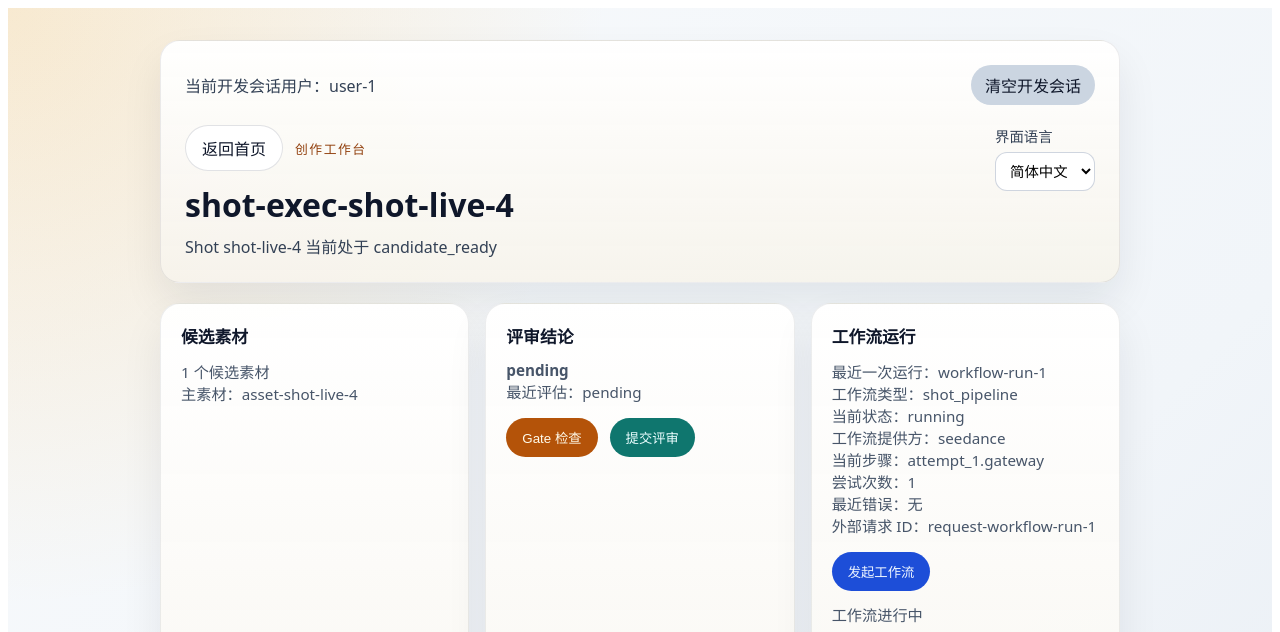
Test: App › switches locale, persists it, and renders english shot feedback
Expected: the heading "shot-exec-shot-live-4" is shown, [185, 183, 514, 226]
Select "English" in the dropdown with test id "ui-locale-select" at (1045, 172), box [995, 152, 1095, 191]
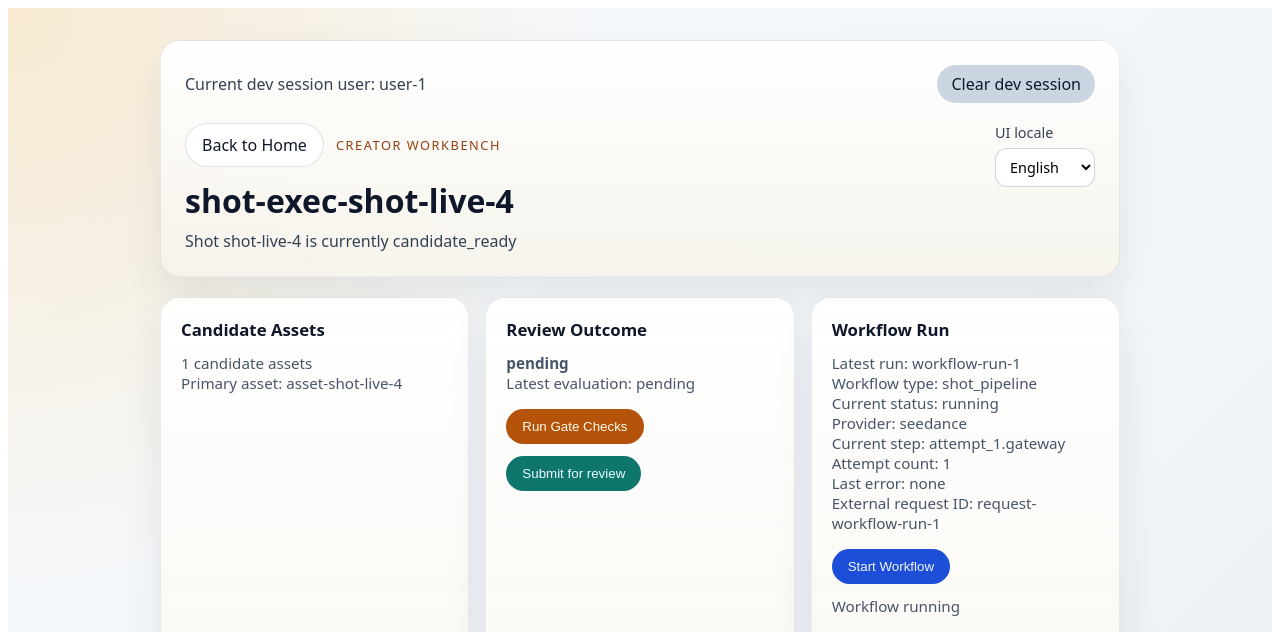
Expected: the button "Run Gate Checks" is shown
Click the button "Run Gate Checks".
click(575, 426)  # box [506, 409, 644, 444]
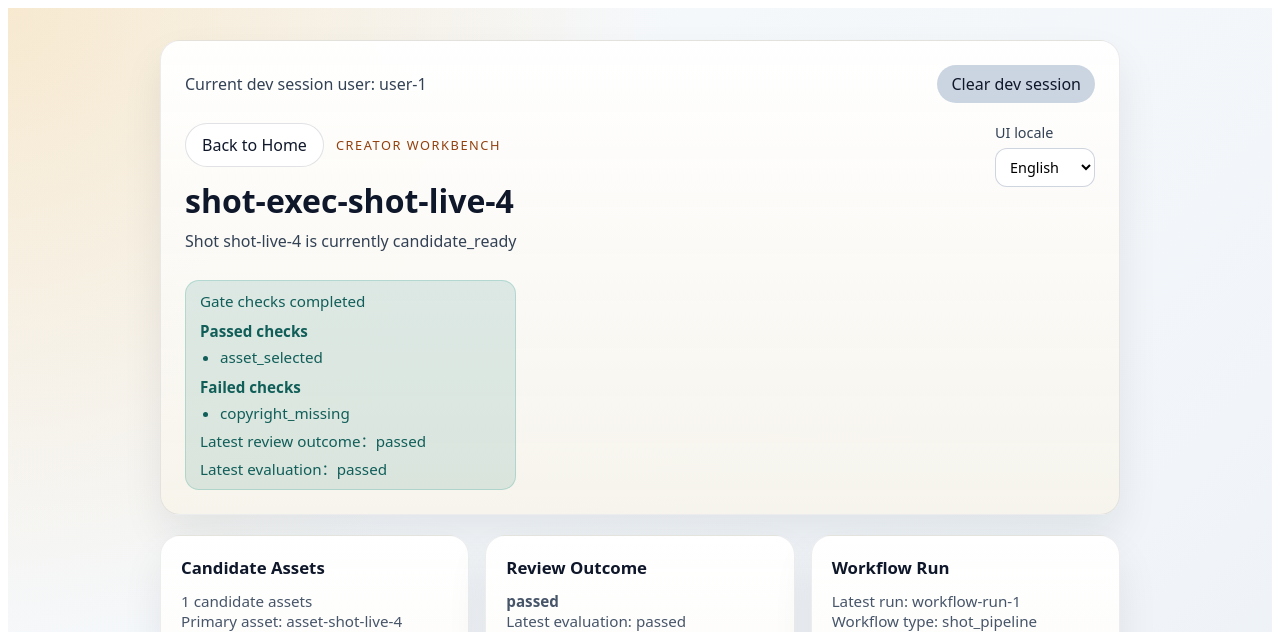
Expected: the text "Gate checks completed" is shown, [200, 291, 365, 311]
Expected: the text "Passed checks" is shown, [200, 321, 308, 341]
